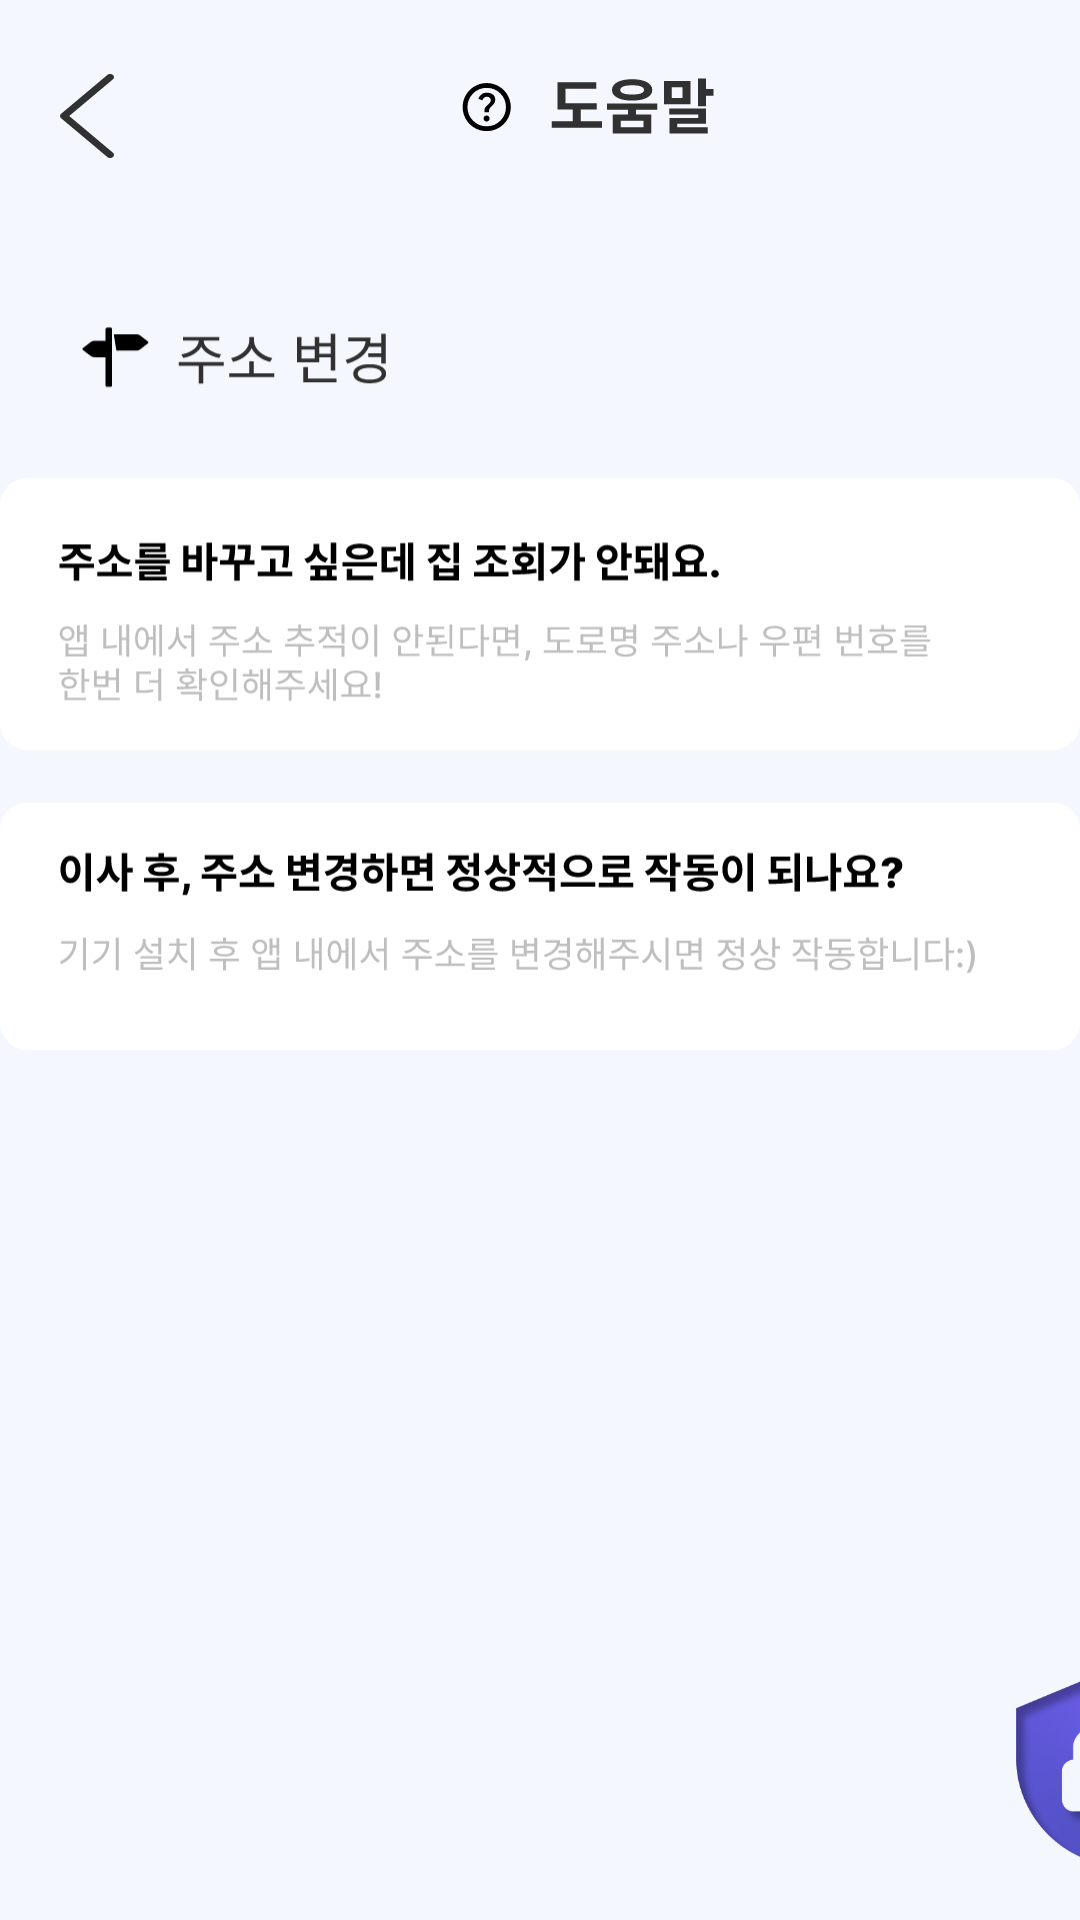

Named icons in this screenshot (1080w x 1920h) and their bounding boxes, (x1, y1, x2, y2):
back: (60, 74, 114, 158)
